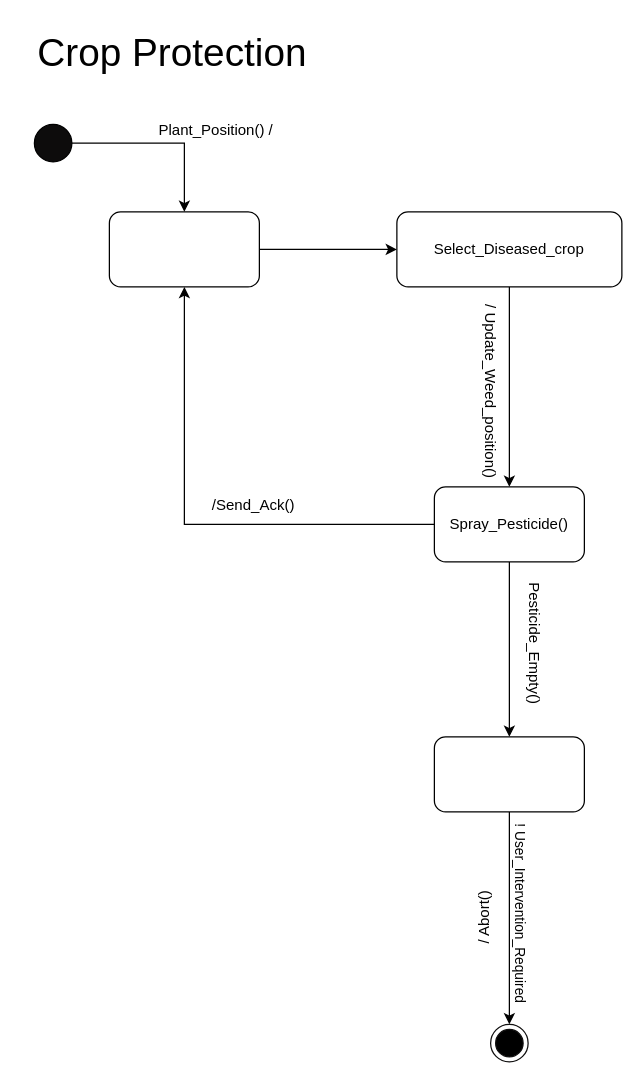
Image size: 644x1084. Some labels were removed from this diagram. The shapes that lost their labels are listed below. From the top down, each one's centre as x and y in pixels, then its label:
point (183, 249): Idle
point (508, 774): Update_User
